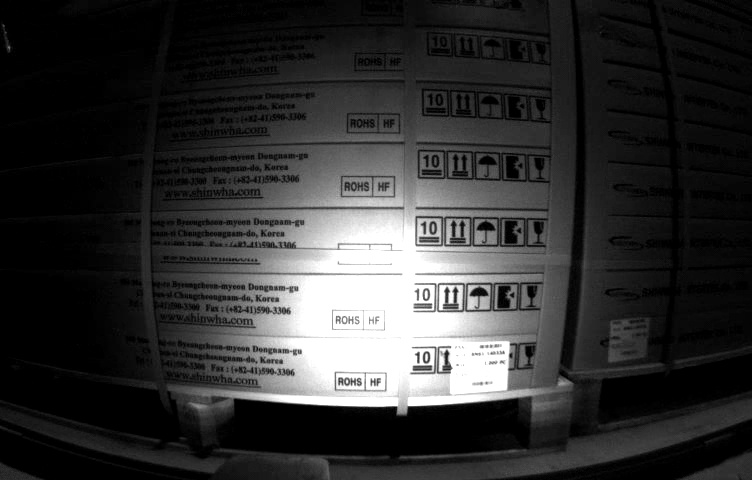True Barcode: (450, 342, 510, 393), (611, 320, 648, 360)
